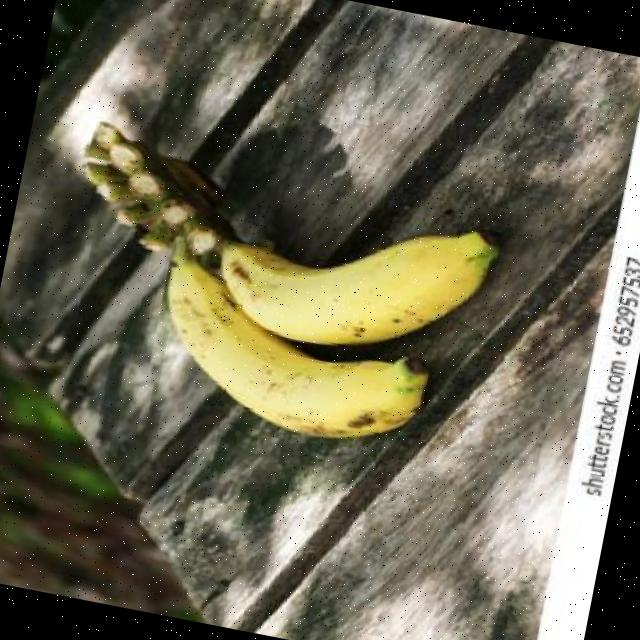banana: (169, 263, 422, 439), (223, 239, 469, 343)
